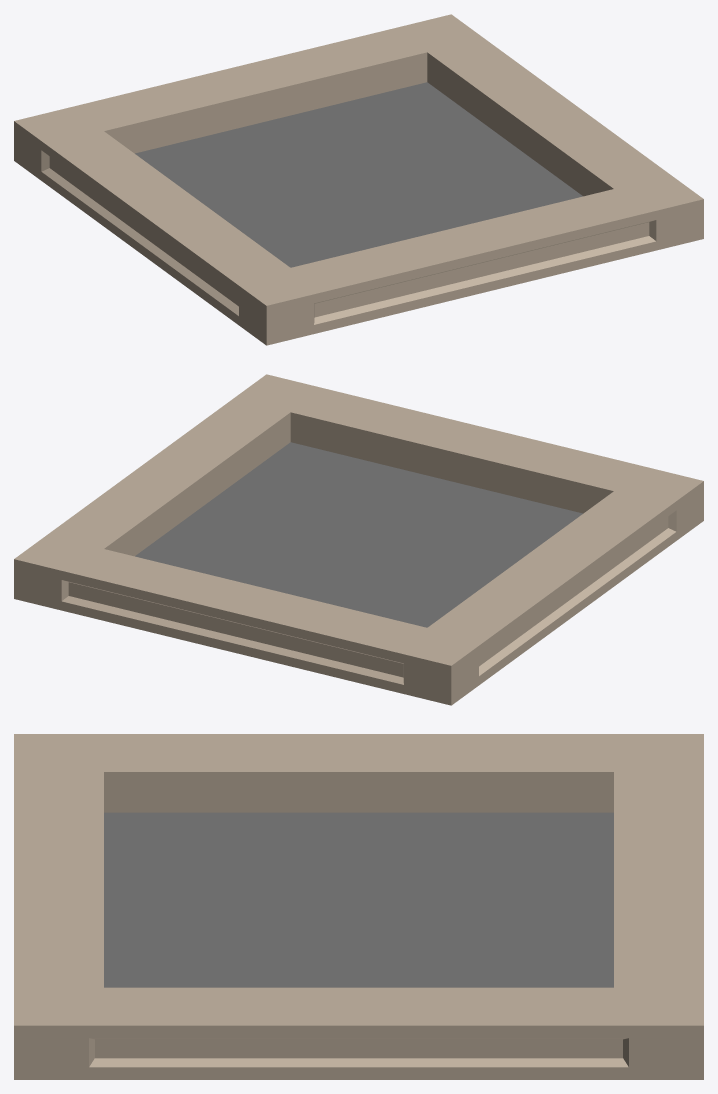
File: roof_4x4_4sided.fbx
3 renders of one model, top to bottom at view 1: azimuth 30°, elevation 25°; view 2: azimuth 150°, elevation 25°; view 3: azimuth 270°, elevation 25°, orthographic. The views are drawn at different scales.
Visible parts, largest first — view 1: Cube; view 2: Cube; view 3: Cube.
Part boxes in pixels (x1,y1,x2,y2): Cube: (14, 14, 703, 345); Cube: (14, 374, 703, 705); Cube: (14, 734, 703, 1079).
Bounding box in the file's own units: 460 × 40 × 460.
